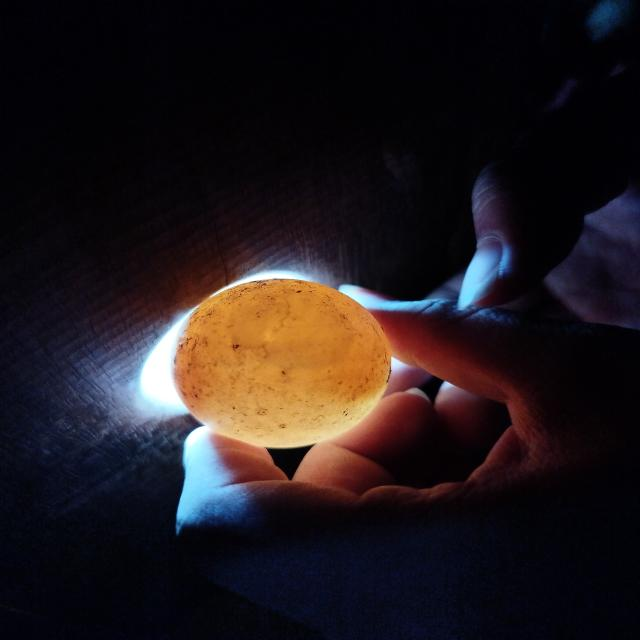Camara de Ar: (229, 293, 356, 365)
Rachadura: (282, 315, 301, 327)
